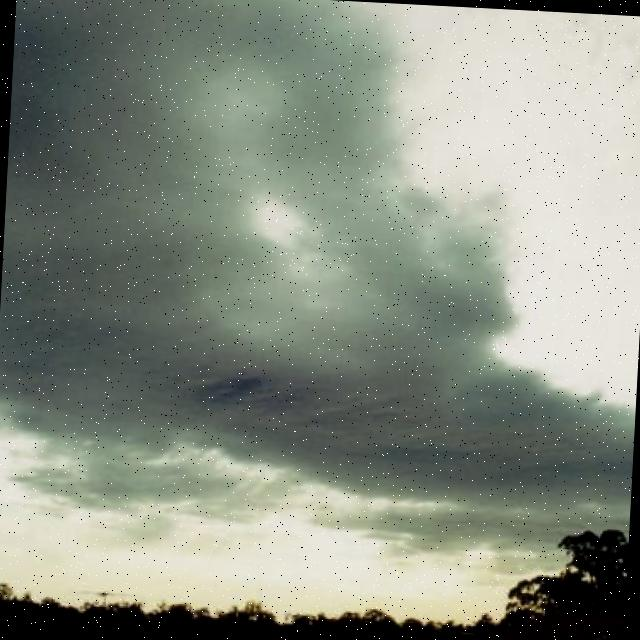St: (1, 8, 640, 475)
